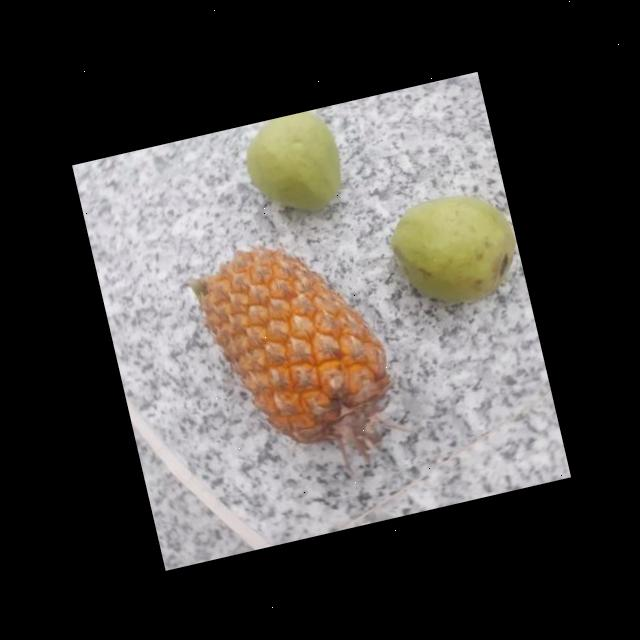guava: (376, 184, 520, 310), (233, 106, 350, 220)
pineapple: (174, 220, 398, 466)
